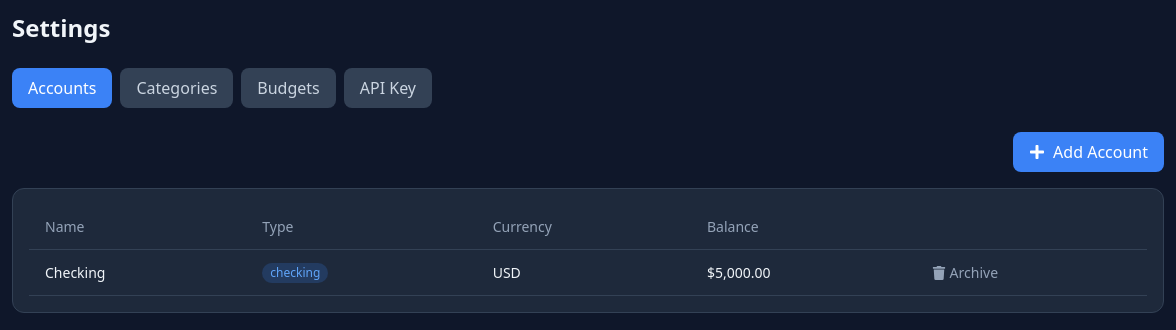
Settings › switches to budgets tab
Click the tab "budgets" at (288, 88), box [241,68,336,108]
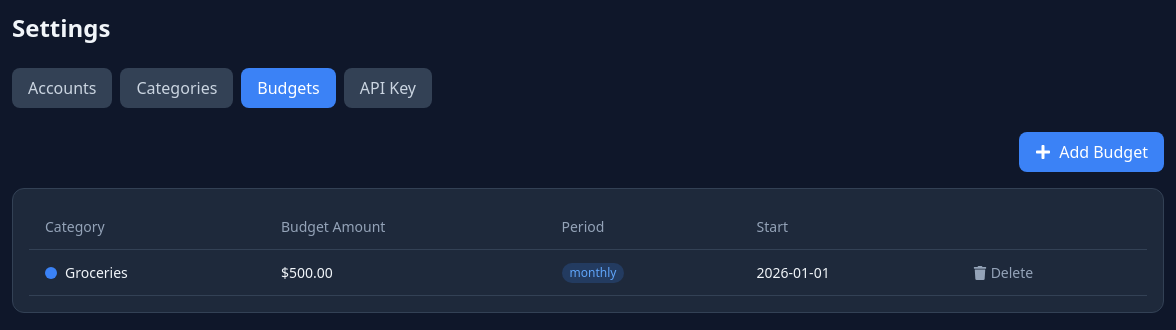
Check: the button "Add Budget" is shown, box [1019,132,1164,172]
